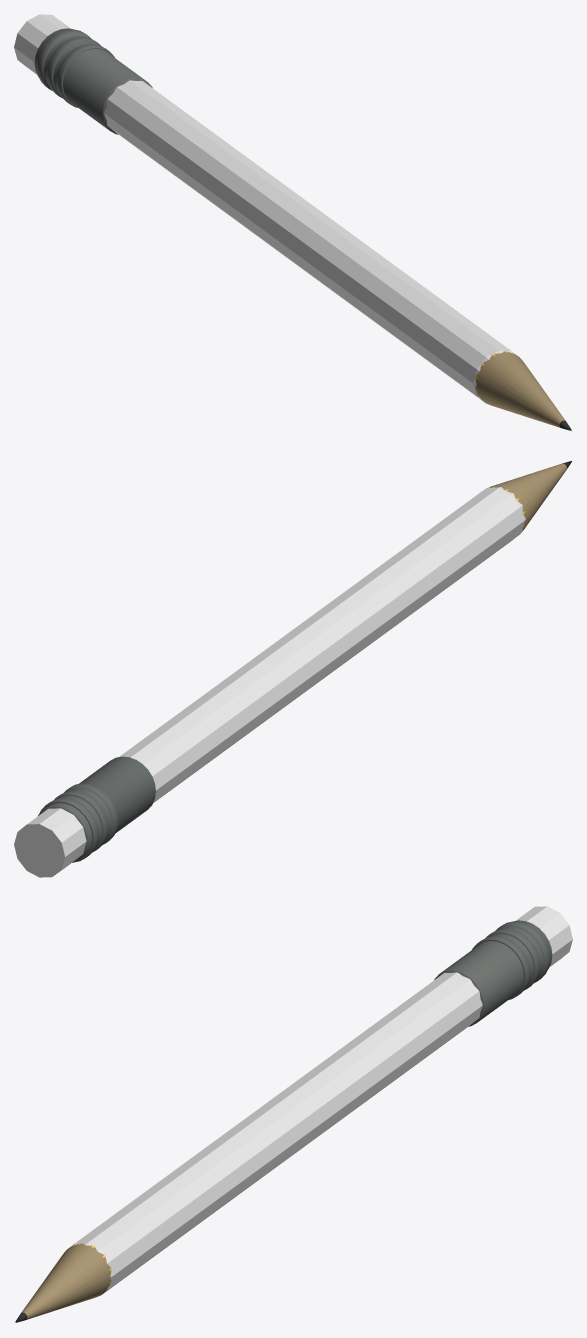
The model's file is Pen.fbx.
3 renders of one model, top to bottom at view 1: azimuth 30°, elevation 25°; view 2: azimuth 150°, elevation 25°; view 3: azimuth 330°, elevation 25°, orthographic.
Parts seen in each view (by area): view 1: Pencoll 1, Pen; view 2: Pencoll 1, Pen; view 3: Pencoll 1, Pen.
Part boxes in pixels (<box>): Pencoll 1: <box>14,14,572,431</box>; Pen: <box>34,28,571,430</box>; Pencoll 1: <box>14,460,572,877</box>; Pen: <box>38,461,571,862</box>; Pencoll 1: <box>14,906,572,1323</box>; Pen: <box>15,920,552,1322</box>.
Size of the model in its own units: 46.47 by 46.47 by 747.
